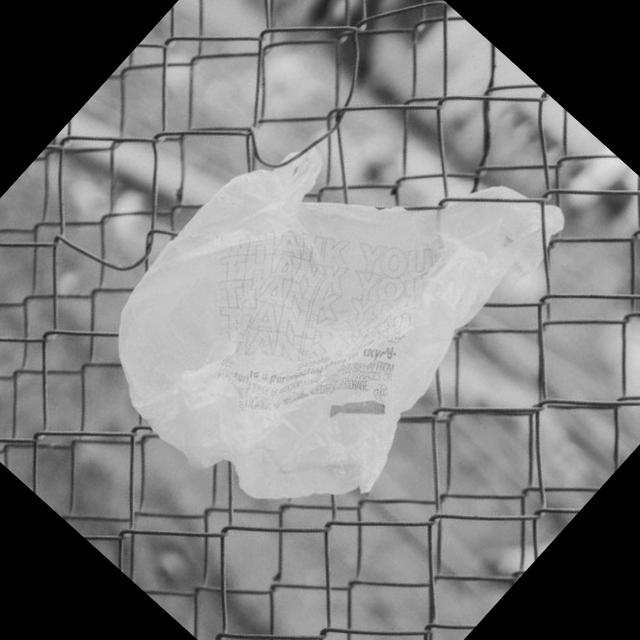KantongPlastik: (64, 25, 597, 568)
